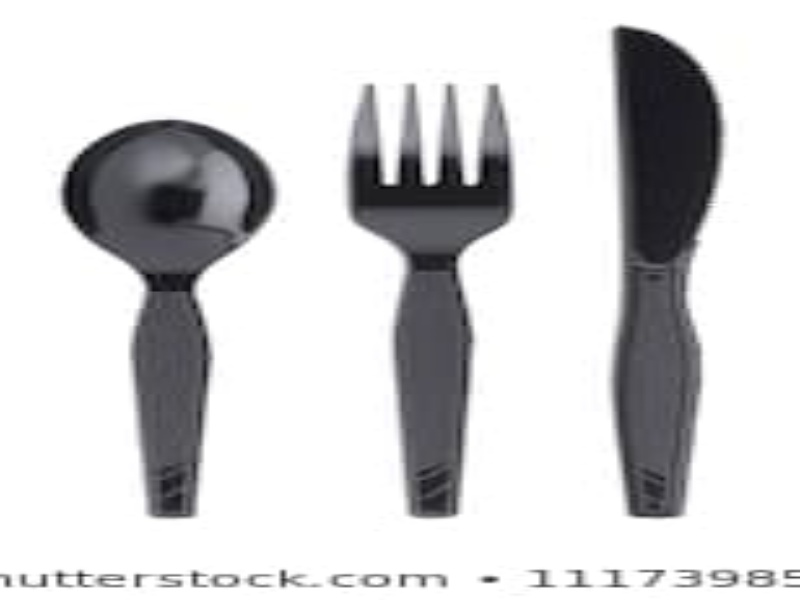plastic-silverware: (48, 100, 281, 527), (346, 70, 522, 518), (597, 9, 738, 536)
